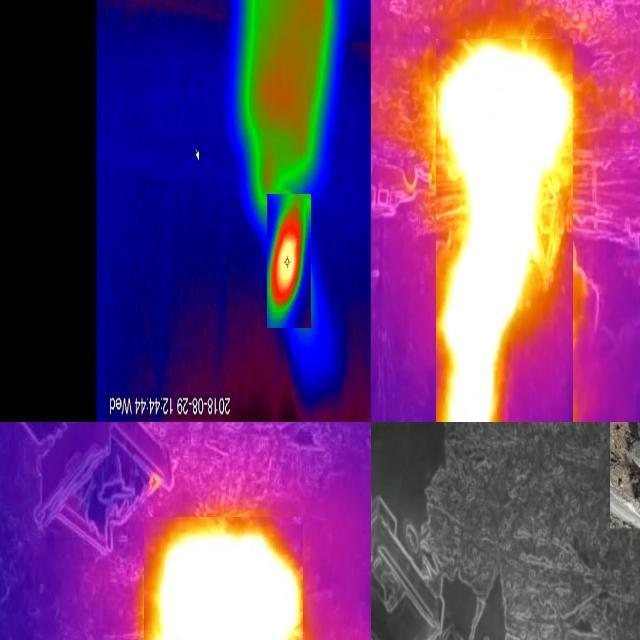fire: (437, 39, 574, 423), (145, 518, 304, 640), (268, 195, 312, 329)
